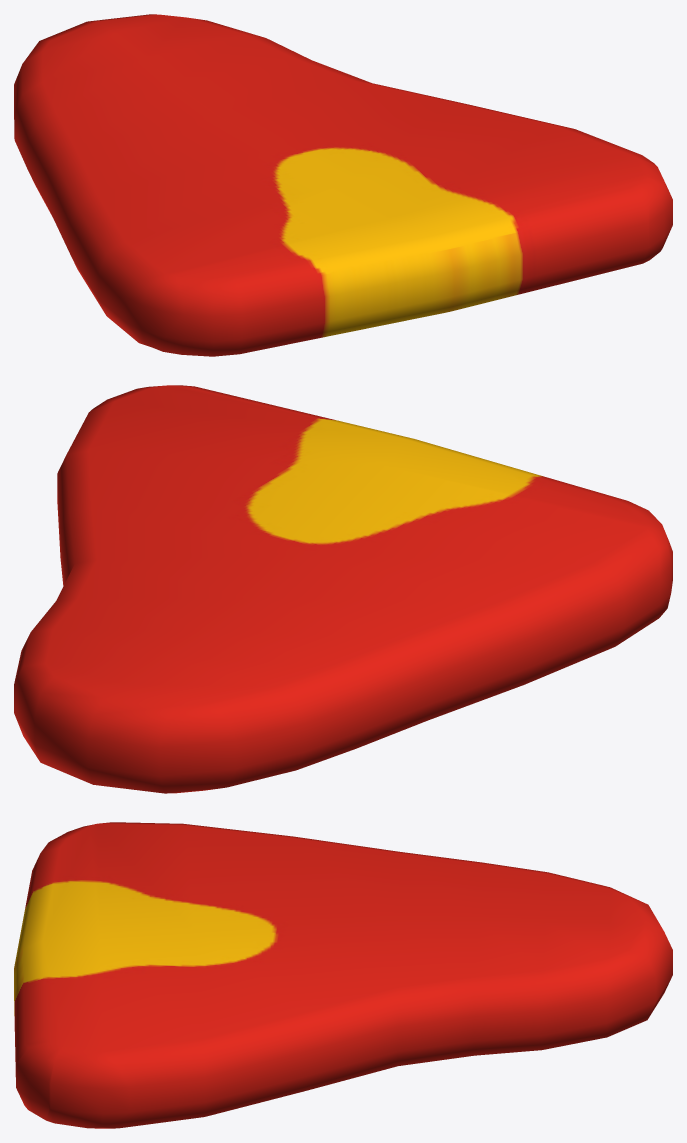
File: flame1.fbx
3 views of the same model, one above another, from view 1: azimuth 30°, elevation 25°; view 2: azimuth 150°, elevation 25°; view 3: azimuth 270°, elevation 25° (orthographic). The views are drawn at different scales.
Visible parts, largest first — view 1: flame_1; view 2: flame_1; view 3: flame_1.
Part boxes in pixels (x1=…): flame_1: x1=14, y1=14, x2=672, y2=356; flame_1: x1=14, y1=385, x2=672, y2=793; flame_1: x1=14, y1=822, x2=672, y2=1128.
Size of the model in its own units: 70.25 by 10.01 by 77.66.
